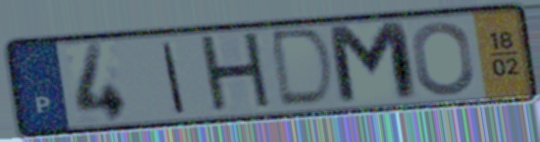4: (72, 40, 131, 126)
D: (270, 26, 339, 111)
H: (195, 29, 277, 118)
I: (159, 40, 189, 116)
M: (323, 18, 424, 109)
O: (409, 19, 478, 98)
